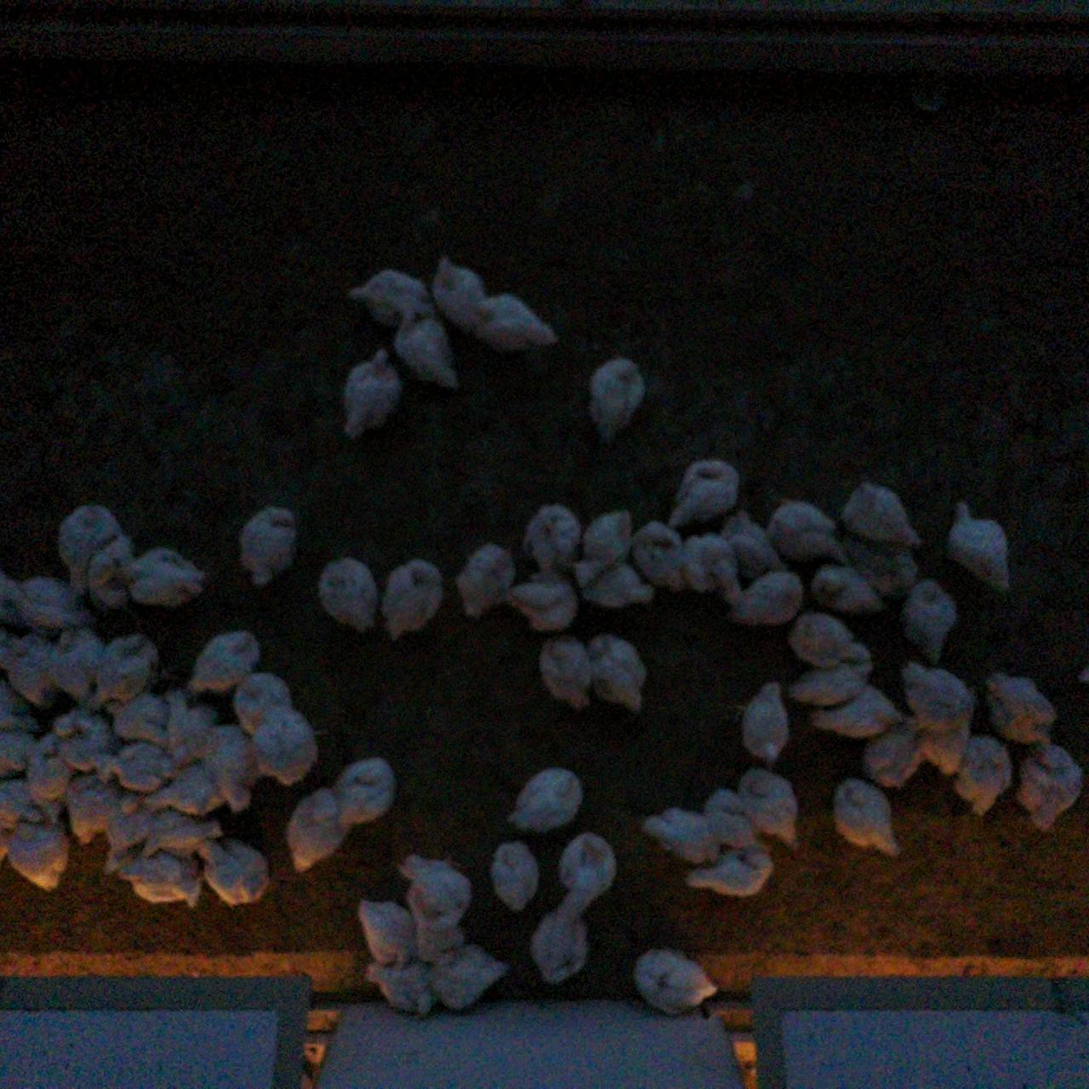chicken: (975, 666, 1059, 756), (944, 496, 1013, 599), (761, 493, 851, 570), (112, 542, 209, 613), (344, 267, 445, 335), (630, 942, 719, 1019), (387, 302, 463, 391), (802, 682, 906, 747), (827, 776, 907, 860), (3, 568, 96, 640), (336, 344, 404, 442), (1014, 743, 1087, 834), (395, 851, 477, 932), (635, 798, 730, 867), (839, 476, 925, 551), (559, 546, 656, 611), (946, 730, 1015, 820), (840, 526, 922, 601), (55, 498, 119, 594), (233, 499, 298, 593), (467, 288, 558, 355), (724, 566, 812, 634), (734, 762, 802, 850), (429, 941, 512, 1013), (250, 702, 319, 788), (862, 713, 934, 795), (91, 629, 163, 711), (584, 627, 651, 714), (584, 354, 648, 445), (666, 454, 742, 530), (192, 835, 274, 905), (100, 784, 163, 874), (902, 574, 961, 670), (505, 767, 583, 839), (379, 559, 441, 649), (559, 827, 618, 921), (572, 504, 637, 589), (287, 790, 352, 875), (625, 517, 692, 599), (154, 686, 221, 768), (356, 955, 439, 1021), (506, 570, 584, 639), (785, 609, 871, 671), (526, 904, 591, 986), (204, 721, 261, 814), (783, 655, 883, 708), (426, 256, 492, 336), (893, 657, 973, 723), (114, 849, 204, 907), (143, 762, 231, 821), (189, 625, 261, 696), (332, 753, 398, 830), (522, 499, 583, 582), (735, 675, 788, 770), (8, 814, 70, 895), (804, 564, 894, 619), (84, 530, 139, 620), (317, 556, 378, 637), (683, 845, 776, 898), (51, 620, 107, 708), (681, 530, 741, 612), (458, 540, 515, 626), (721, 507, 788, 580), (351, 897, 420, 967), (533, 630, 591, 713), (485, 837, 543, 917), (230, 672, 299, 739), (47, 707, 116, 774), (70, 768, 123, 849), (698, 785, 757, 856), (5, 627, 56, 709), (140, 811, 223, 860), (95, 739, 175, 789), (109, 687, 166, 757), (916, 707, 973, 775), (25, 734, 71, 806), (0, 717, 40, 785), (0, 779, 49, 831), (0, 672, 42, 730), (416, 923, 463, 972)
